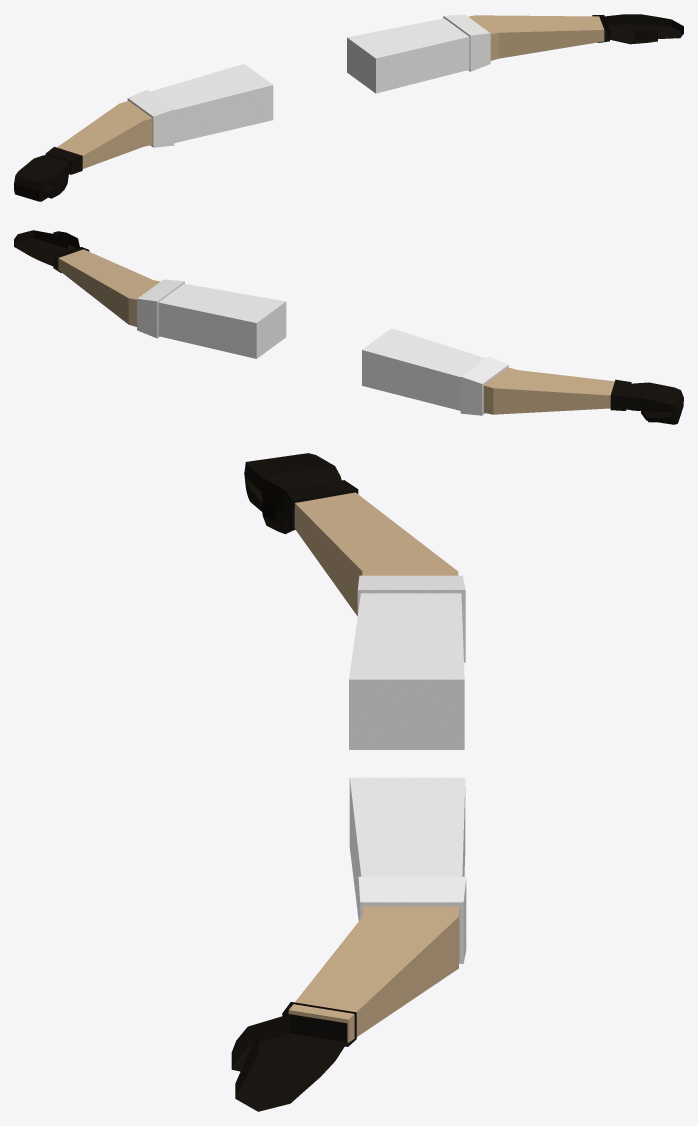
File: PlayerArms.fbx
3 renders of one model, top to bottom at view 1: azimuth 30°, elevation 25°; view 2: azimuth 150°, elevation 25°; view 3: azimuth 270°, elevation 25°, orthographic. The views are drawn at different scales.
Parts seen in each view (by area): view 1: Cube.009, Cube.004, Cube.011; view 2: Cube.009, Cube.004, Cube.011; view 3: Cube.009, Cube.004, Cube.011.
Part boxes in pixels (box(x1,y1,x2,y2)): Cube.009: box(127, 14, 490, 147); Cube.004: box(57, 15, 604, 168); Cube.011: box(14, 14, 683, 201); Cube.009: box(137, 279, 508, 415); Cube.004: box(58, 249, 614, 414); Cube.011: box(14, 230, 683, 424); Cube.009: box(349, 575, 466, 963); Cube.004: box(288, 492, 459, 1042); Cube.011: box(231, 453, 358, 1111).
Size of the model in its own units: 1430 by 88.19 by 221.
